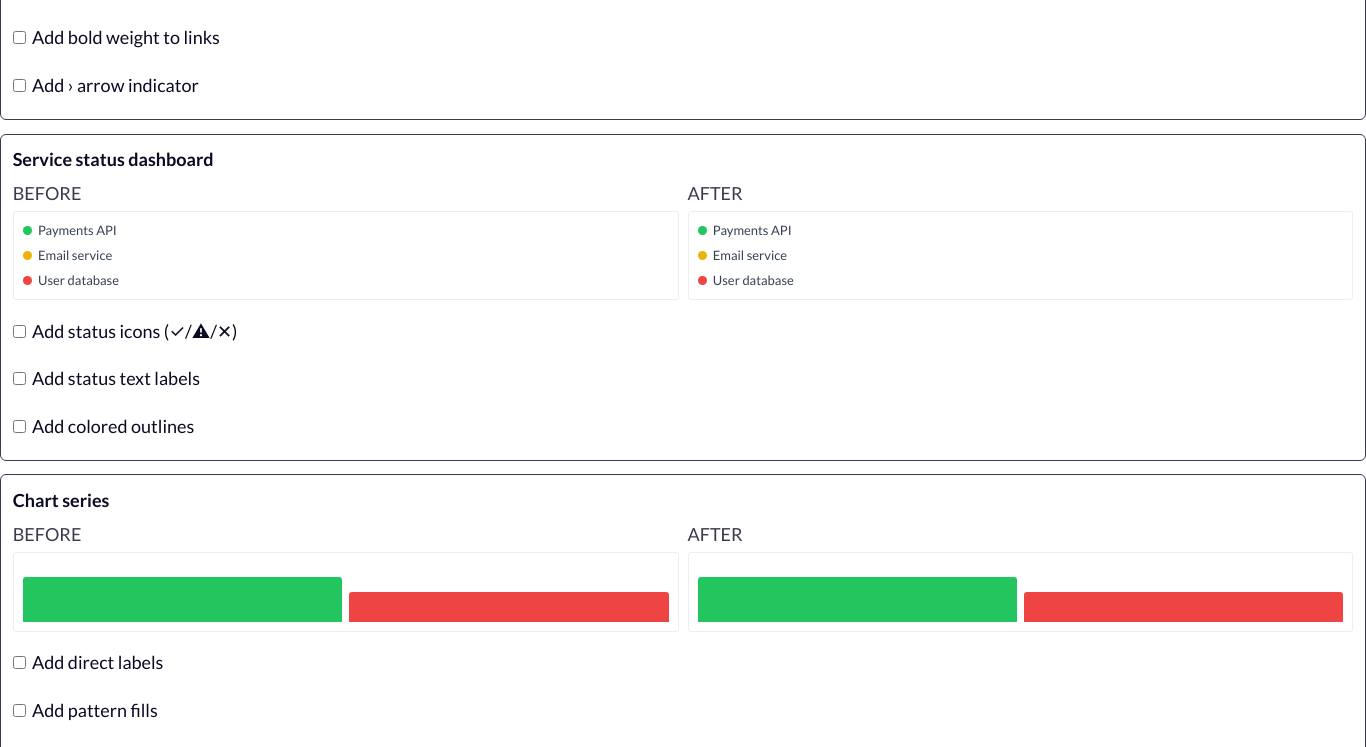
PatternRepairTool › adds text labels that identify each service status
(page scrolled)
expect the text "Operational" is not shown: met
expect the text "Degraded" is not shown: met
Click the checkbox labelled "Add status text labels".
click(19, 379)  # box [13,372,26,385]
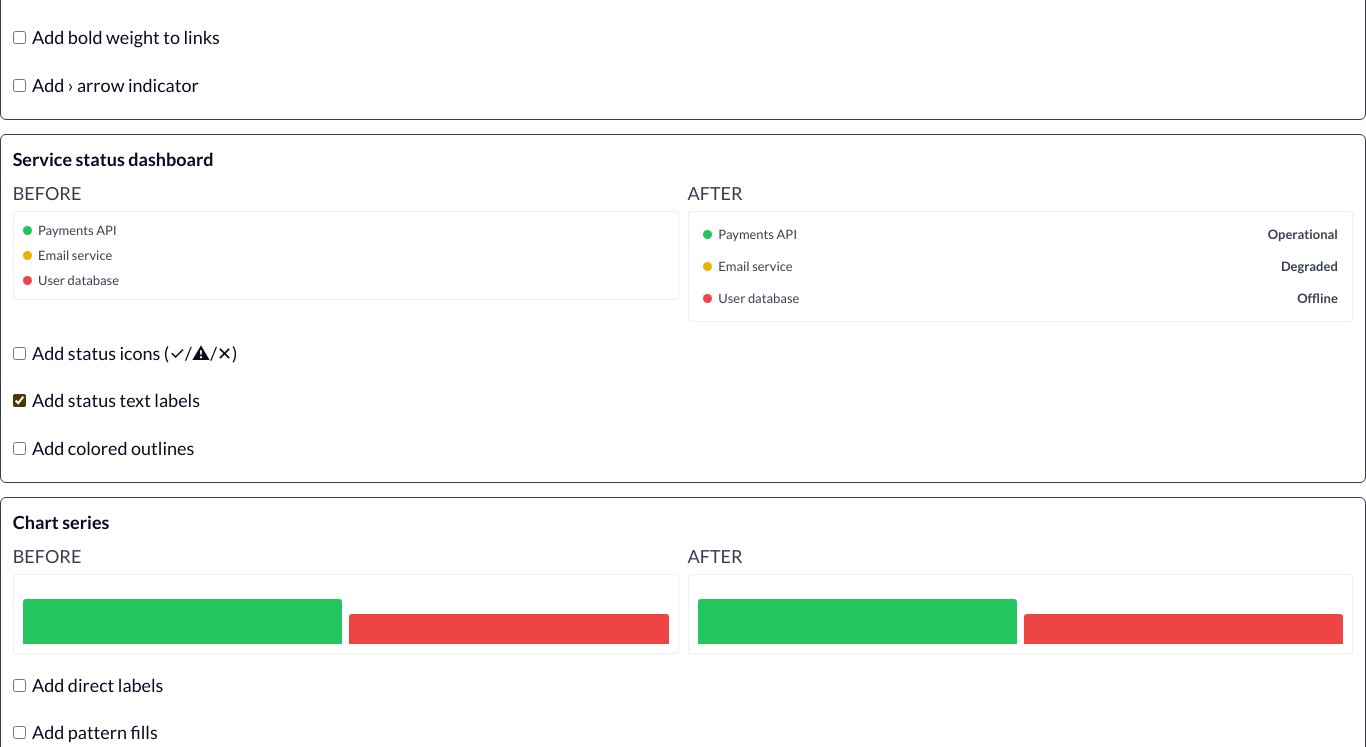
expect the text "Operational" is shown: met, box [1268,225,1338,244]
expect the text "Degraded" is shown: met, box [1281,257,1338,276]
expect the text "Offline" is shown: met, box [1297,289,1338,308]
